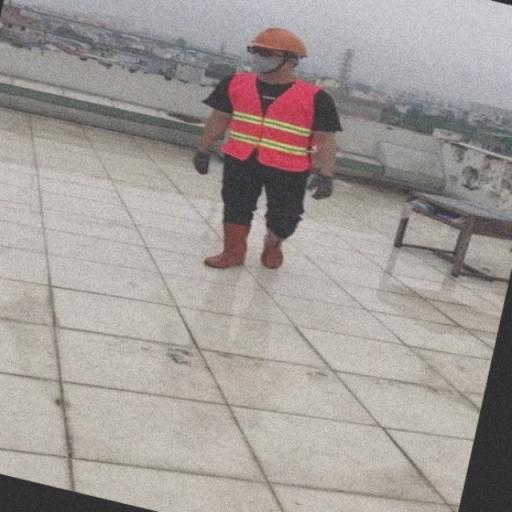Person: (179, 3, 347, 291)
boots: (203, 221, 248, 271), (260, 227, 295, 268)
gloves: (302, 170, 336, 198), (194, 150, 216, 174)
goggles: (234, 44, 294, 58)
helmet: (248, 15, 306, 56)
vest: (217, 70, 323, 166)
